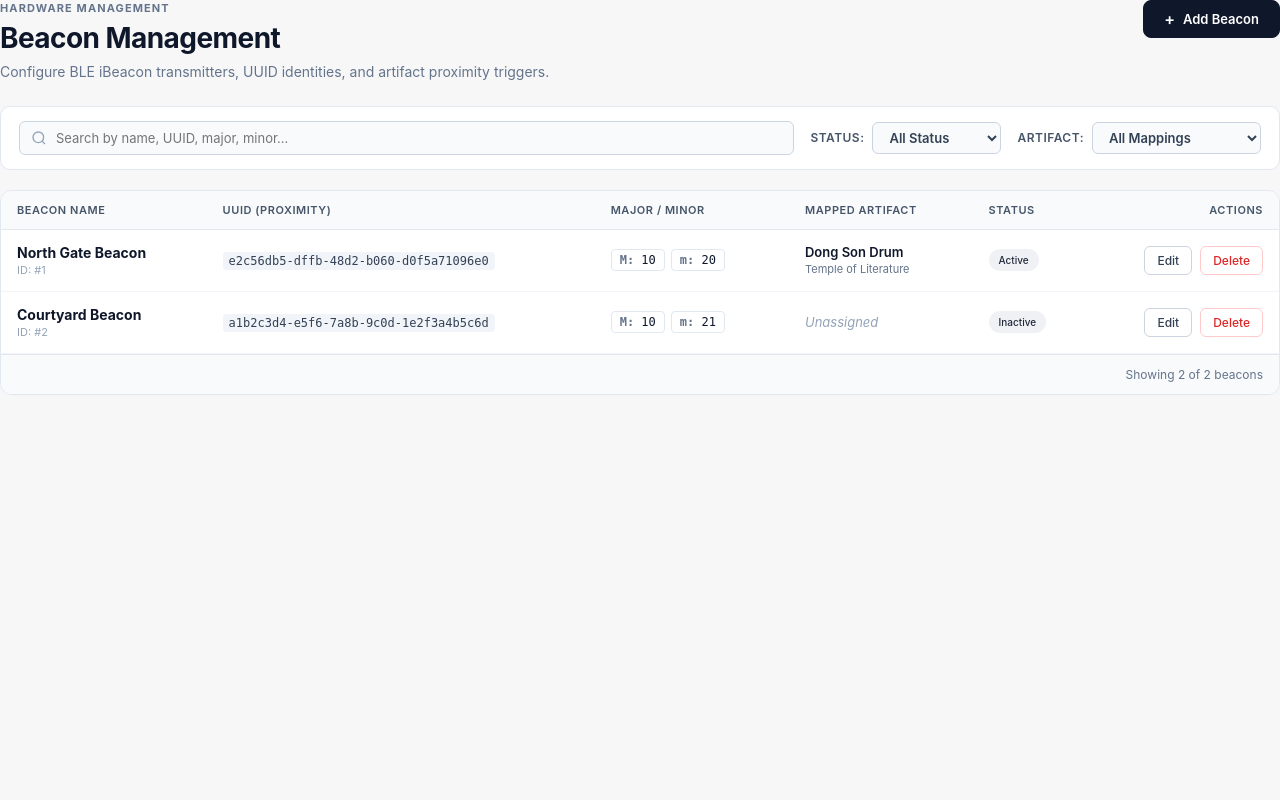
Test: BeaconsPage — Admin Beacon Management › edits an existing beacon
Expected: the text "North Gate Beacon" is shown, [17, 244, 146, 260]
Click the button with aria-label "edit north gate beacon".
click(1168, 260)  # box [1144, 246, 1192, 274]
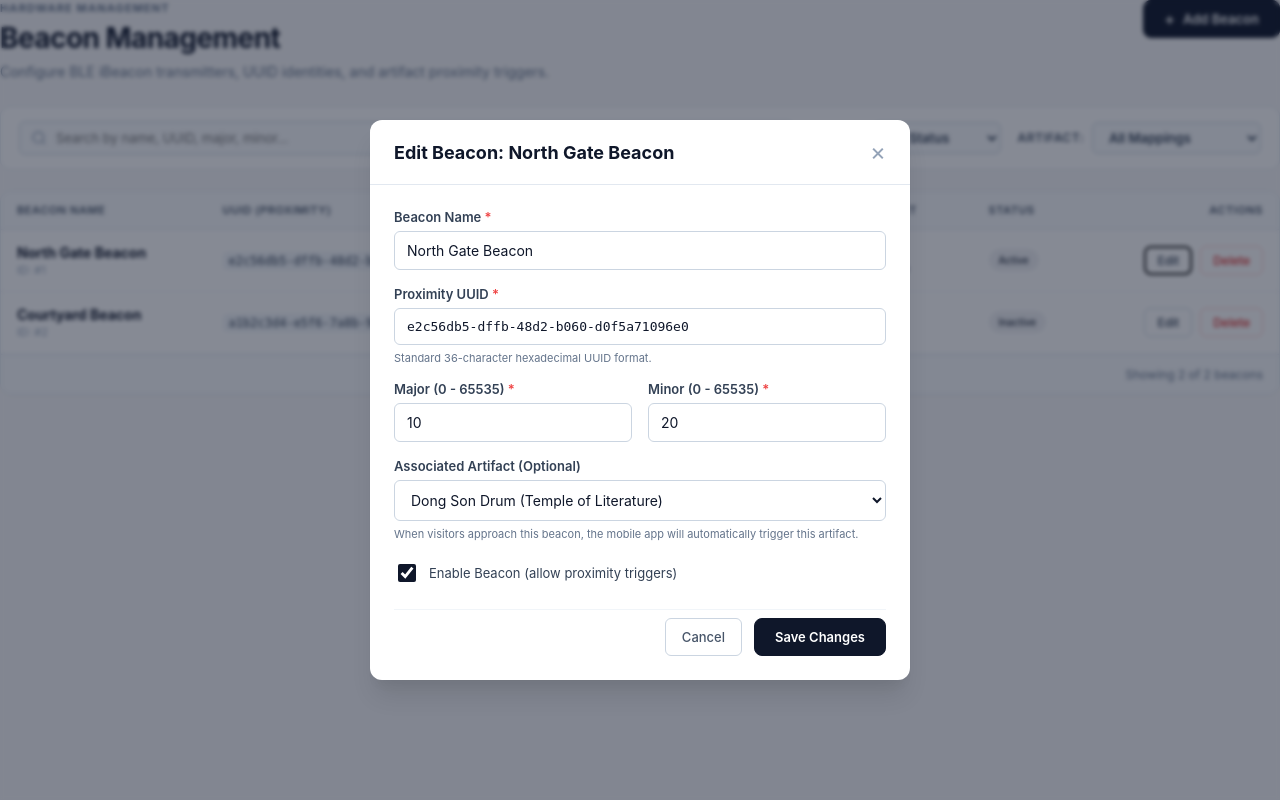
Expected: the heading "Edit Beacon: North Gate Beacon" is shown, [394, 142, 674, 162]
Replace the text in the field labelled "Beacon Name *" with "North Gate Beacon Updated" at (640, 250), box [394, 231, 886, 270]
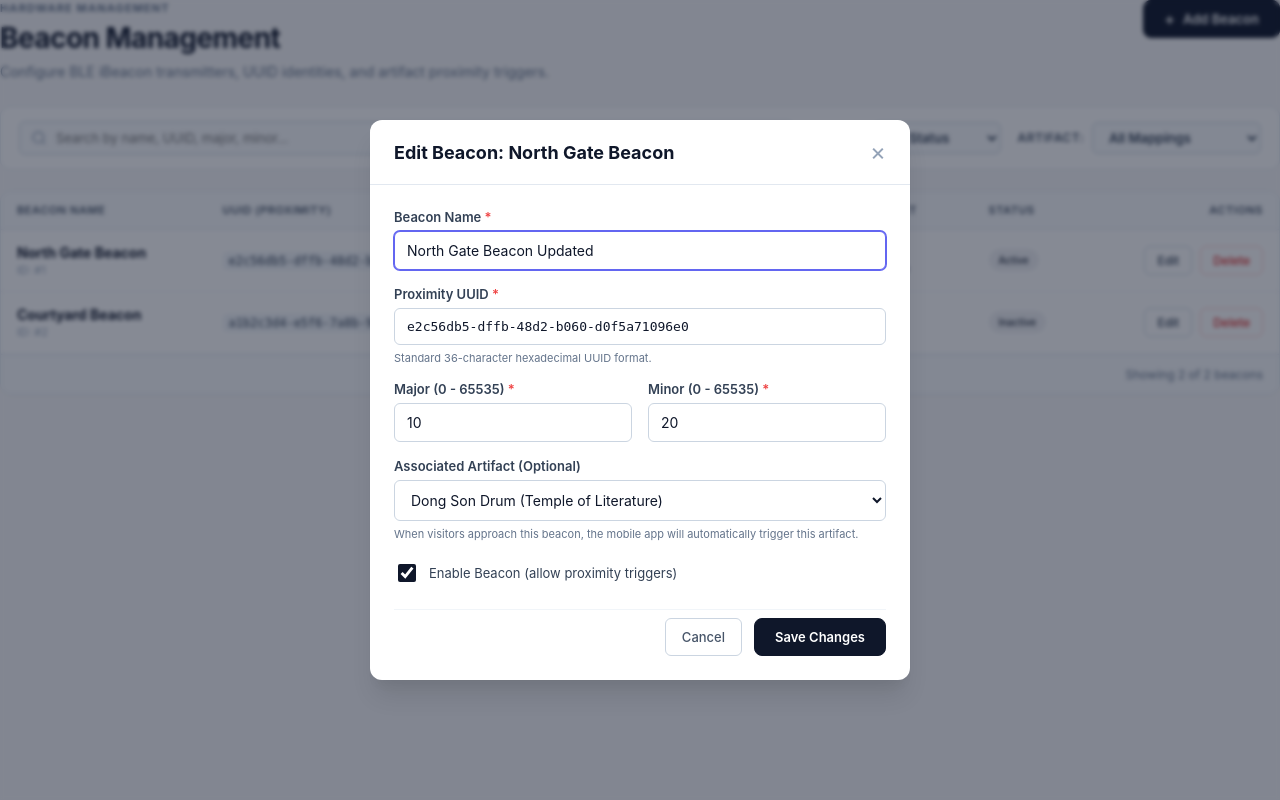
Type "12" into the number field labelled "Major (0 - 65535) *".
click(513, 422); type("12")  # box [394, 403, 632, 442]
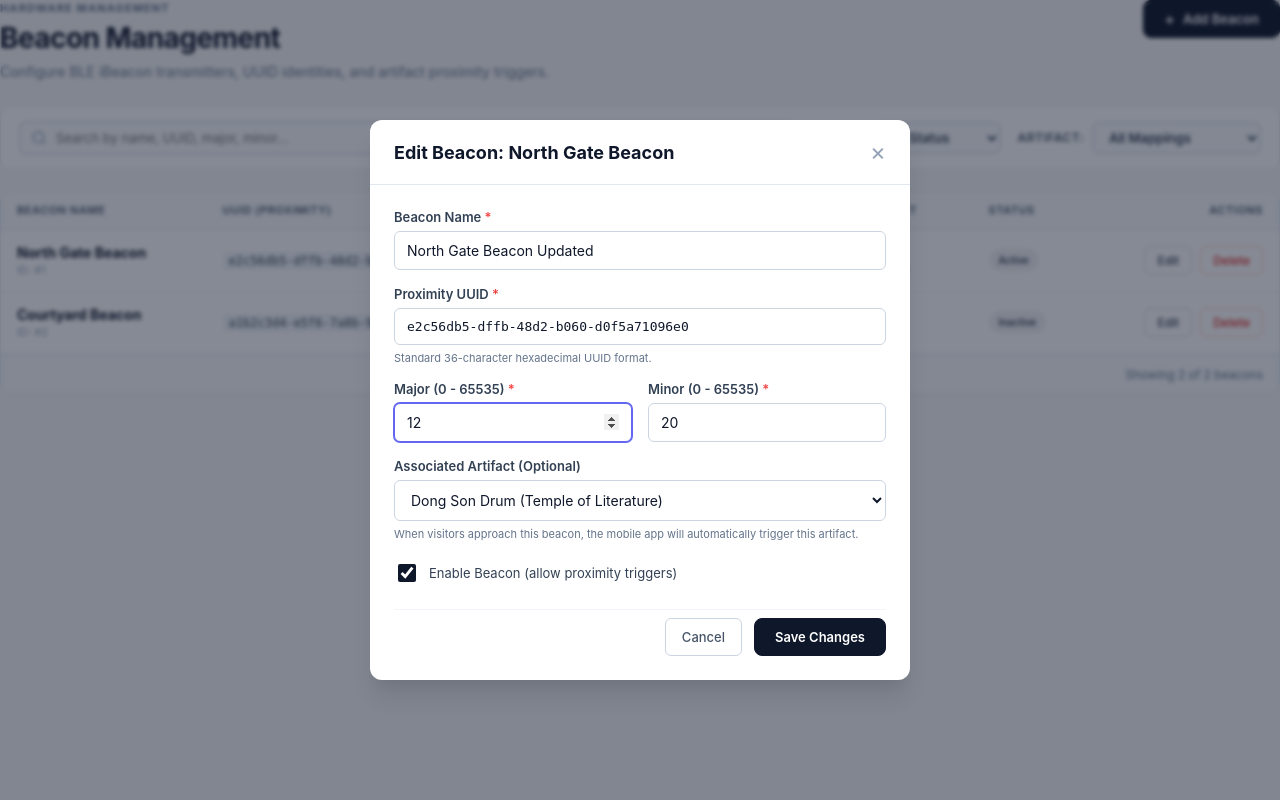
Click the button "Save Changes".
click(820, 637)  # box [754, 618, 886, 656]
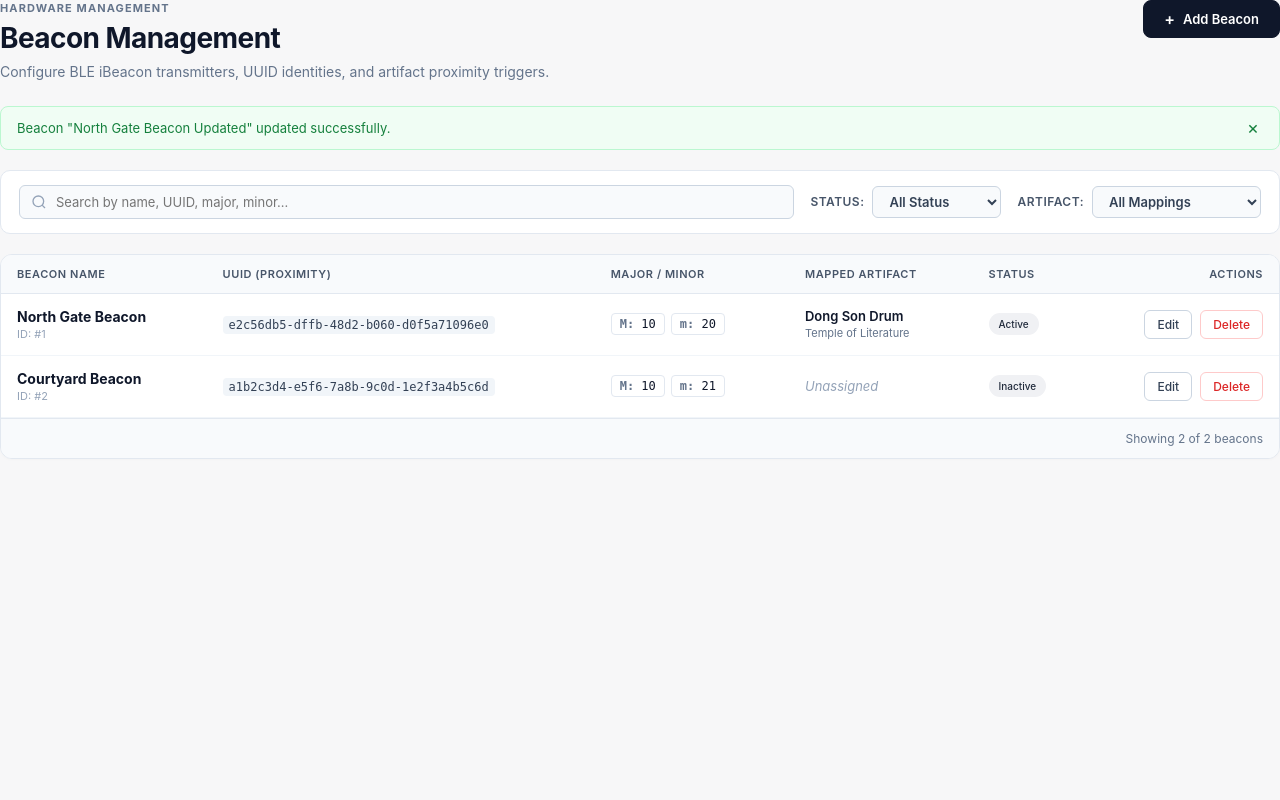
Expected: the text "Beacon \"North Gate Beacon Updated\" updated successfully." is shown, [17, 120, 390, 136]
